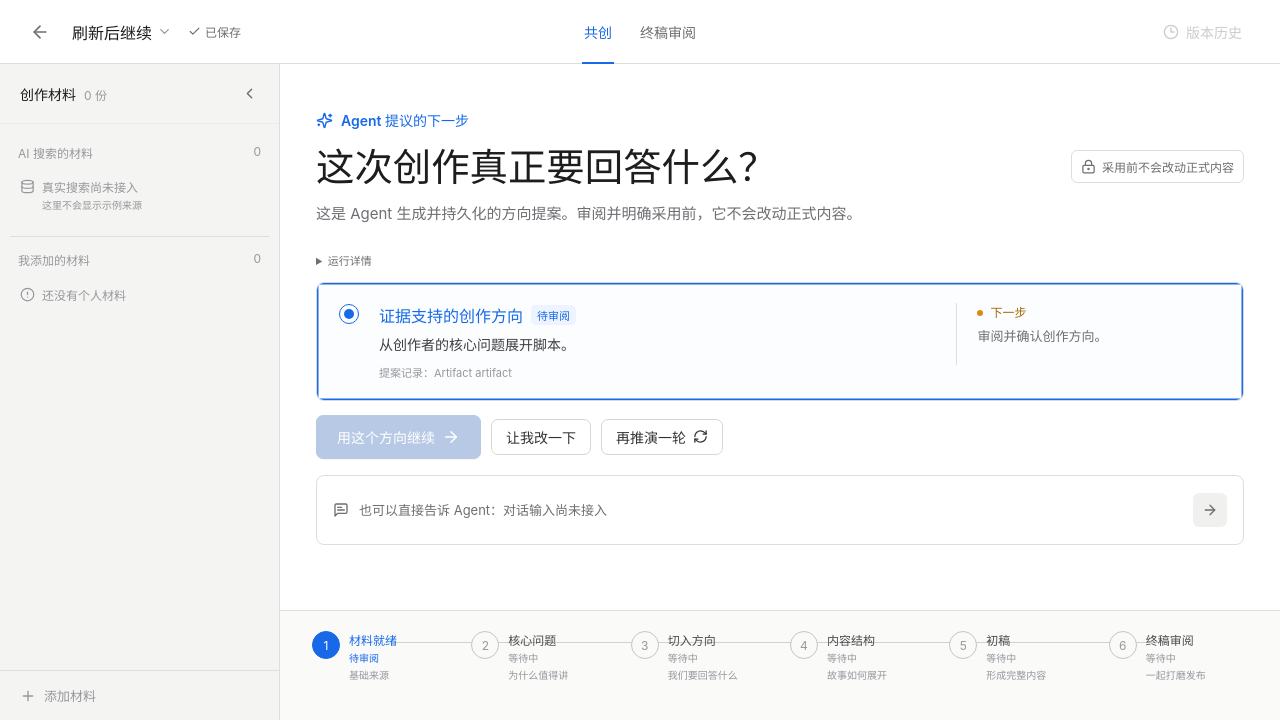
Scenario: Spark to Script runtime surface › reconstructs a persisted proposal from the project URL on refresh
This screenshot has width=1280, height=720.
Expected: the heading "这次创作真正要回答什么？" is shown, 316,144 -> 777,190
Expected: the element with class "direction-compare" is shown, 316,282 -> 1244,401
Click the button with aria-label "切换项目".
click(122, 32)  # box 66,14 -> 178,48
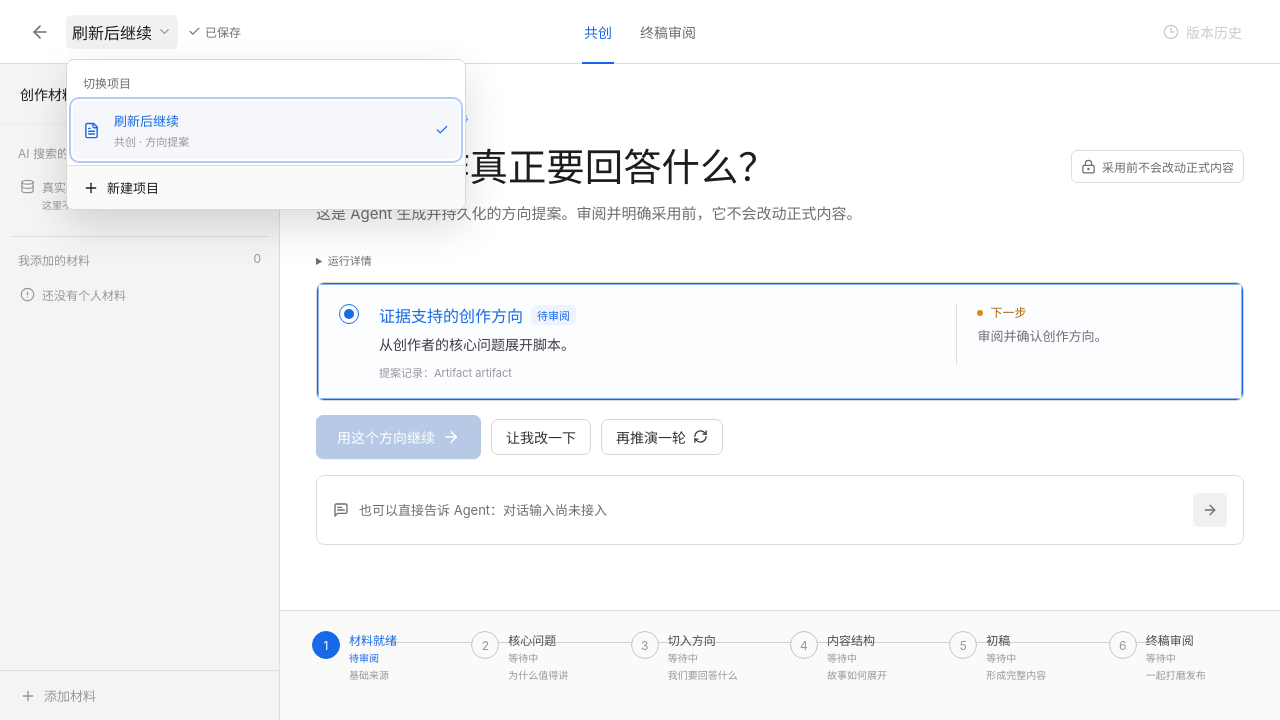
Result: the text "切换项目" is shown at 83,76 -> 131,91
Result: the dialog is shown at 66,59 -> 466,210
